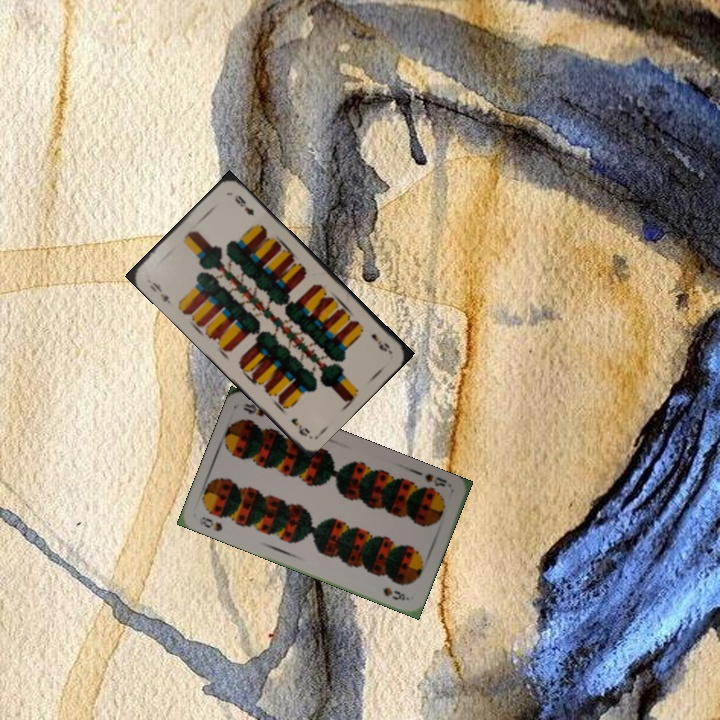E9: (145, 278, 173, 306), (367, 329, 394, 355)
S8: (195, 512, 225, 534), (421, 470, 454, 489)
